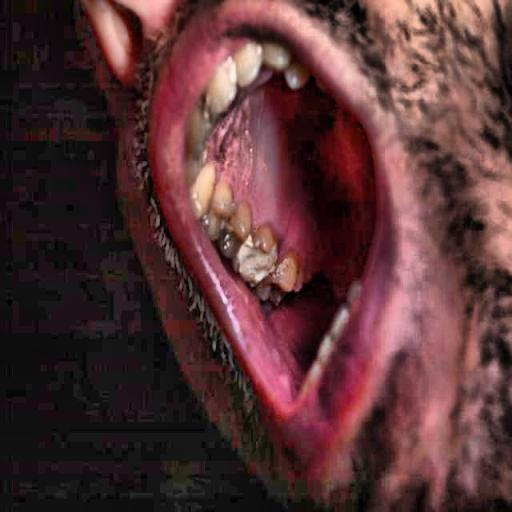Caries: (205, 201, 318, 300)
